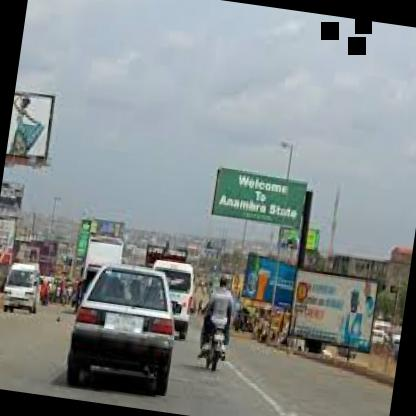car: (56, 254, 192, 404), (198, 256, 252, 400), (140, 242, 206, 340), (0, 247, 57, 334), (81, 219, 131, 304)
